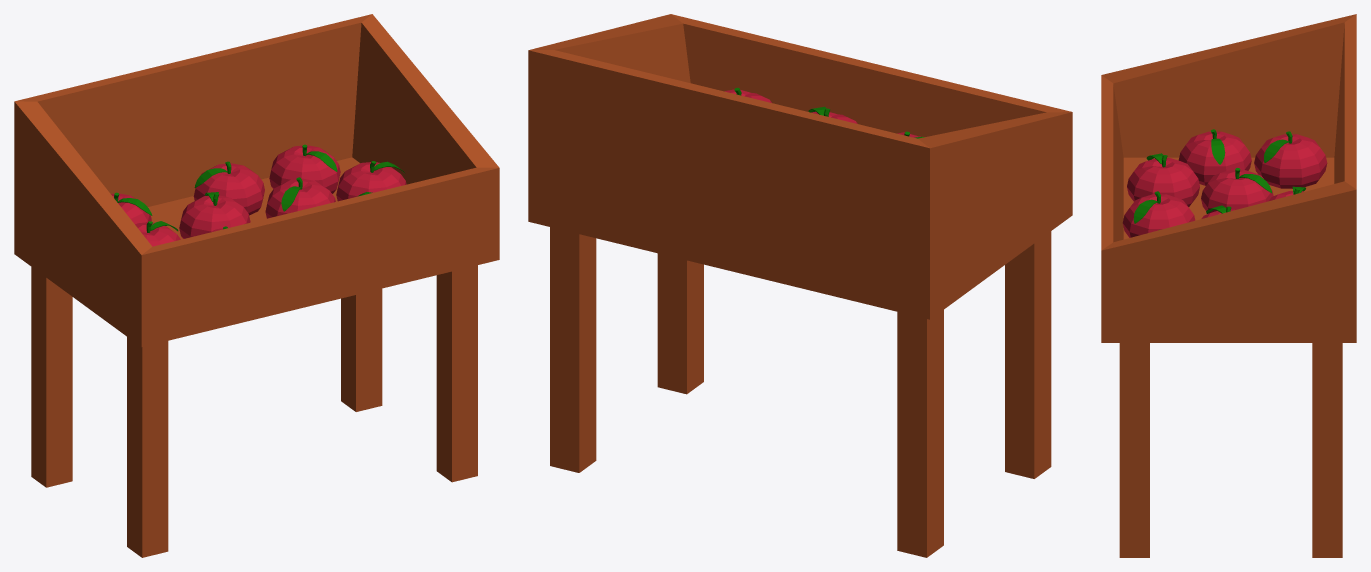
Rendered from stall.fbx.
3 views of the same model, side by side, from view 1: azimuth 30°, elevation 25°; view 2: azimuth 150°, elevation 25°; view 3: azimuth 270°, elevation 25° (orthographic). The views are drawn at different scales.
Parts seen in each view (by area): view 1: Cube, Sphere.007, Cube.001, Cube.002, Cube.003, Cube.004, Sphere.019; view 2: Cube, Cube.003, Cube.004, Cube.001, Cube.002; view 3: Cube, Sphere.007, Cube.002, Cube.004, Sphere.019.
Part boxes in pixels (x1,y1,x2,y2): Cube: (14, 14, 499, 347); Sphere.007: (111, 145, 406, 246); Cube.001: (127, 337, 168, 557); Cube.002: (436, 265, 477, 482); Cube.003: (31, 267, 72, 487); Cube.004: (341, 288, 382, 411); Sphere.019: (114, 144, 404, 232); Cube: (528, 14, 1072, 319); Cube.003: (897, 310, 943, 557); Cube.004: (550, 227, 596, 472); Cube.001: (1005, 231, 1051, 478); Cube.002: (657, 253, 703, 394); Cube: (1101, 14, 1356, 342); Sphere.007: (1122, 131, 1327, 237); Cube.002: (1119, 343, 1149, 557); Cube.004: (1312, 343, 1342, 557); Sphere.019: (1133, 129, 1305, 223).
Bounding box in the file's own units: 325 × 323 × 200.
